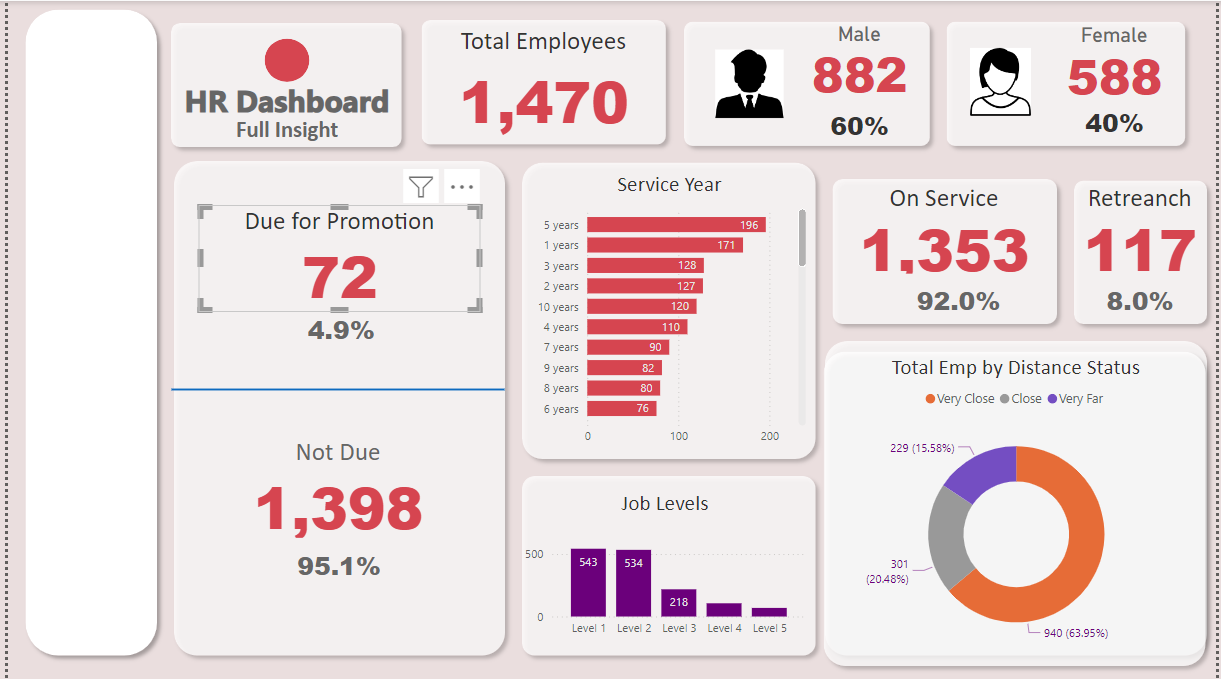

What the dashboard file says about the page in this screenshot:
{"tool":"powerbi","page":{"name":"Page 1","canvas":[1280,720],"ordinal":0},"visuals":[{"type":"shape","box":[9.5,0,157.5,703.1],"z":0},{"type":"shape","box":[163.8,14.3,262.5,149.5],"z":1000},{"type":"shape","box":[430,10.6,277.1,149.9],"z":2000},{"type":"shape","box":[707.1,12.1,278.6,149.9],"z":3000},{"type":"shape","box":[985.7,12.1,271,149.9],"z":4000},{"type":"shape","box":[167,160.7,369,542.4],"z":5000},{"type":"shape","box":[536,162.2,329.3,332.4],"z":6000},{"type":"shape","box":[536,494.7,329.3,208.4],"z":7000},{"type":"shape","box":[865.3,179.7,256.1,171.8],"z":8000},{"type":"shape","box":[1121.4,181.3,159.1,170.2],"z":9000},{"type":"shape","box":[857.3,351.5,423.1,351.5],"z":10000},{"type":"textbox","box":[173.4,77.9,245,60.4],"z":11000},{"type":"textbox","box":[173.4,116.1,245,63.6],"z":12000},{"type":"shape","box":[272,39.8,47.7,46.1],"z":13000},{"type":"card","title":"Total Employees","fields":{"Values":["All Measures.Total Emp"]},"box":[440.6,25.4,254.5,122.5],"z":14000},{"type":"card","title":"Male","fields":{"Values":["All Measures.Male"]},"box":[831.9,22.3,141.6,81.1],"z":15000},{"type":"card","title":"Male","fields":{"Values":["All Measures.% male"]},"box":[841.4,108.2,122.5,47.7],"z":16000},{"type":"card","title":"Female","fields":{"Values":["All Measures.Female"]},"box":[1102.3,23.9,141.6,81.1],"z":17000},{"type":"card","title":"Male","fields":{"Values":["All Measures.% female"]},"box":[1111.8,105,122.5,47.7],"z":18000},{"type":"image","box":[741.2,46.1,90.7,82.7],"z":19000},{"type":"image","box":[1014.8,39.8,74.8,92.3],"z":20000},{"type":"card","fields":{"Values":["All Measures.% Due for Promotion"]},"box":[243.4,321.3,219.5,54.1],"z":21000},{"type":"card","title":"Due for Promotion","fields":{"Values":["All Measures.Due for Promotion"]},"box":[202,216.3,299,112.9],"z":22000},{"type":"card","title":"Not Due","fields":{"Values":["All Measures.Not Due"]},"box":[200.4,461.3,299,112.9],"z":23000},{"type":"card","fields":{"Values":["All Measures.% Not Due"]},"box":[238.6,574.2,224.3,49.3],"z":24000},{"type":"shape","box":[173.4,405.6,353.1,12.7],"z":25000},{"type":"barChart","title":"Service Year","fields":{"Category":["HR Analytics Data.Service Year"],"Y":["All Measures.Total Emp"]},"box":[551.9,179.7,299,299],"z":26000},{"type":"columnChart","title":" Job Levels","fields":{"Category":["HR Analytics Data.Job Levels"],"Y":["All Measures.Total Emp"]},"box":[542.4,518.5,308.6,163.8],"z":27000},{"type":"card","title":"On Service","fields":{"Values":["All Measures.On Service"]},"box":[882.8,192.5,219.5,101.8],"z":28000},{"type":"card","title":"Male","fields":{"Values":["All Measures.% On Service"]},"box":[946.4,294.3,122.5,47.7],"z":29000},{"type":"shape","box":[856.2,362.1,423.1,351.5],"z":30000},{"type":"card","title":"Retreanch","fields":{"Values":["All Measures.Will be Retreanched"]},"box":[1130.9,192.5,138.4,101.8],"z":31000},{"type":"card","title":"Male","fields":{"Values":["All Measures.% Will be Retreanched"]},"box":[1138.9,294.3,122.5,47.7],"z":32000},{"type":"donutChart","fields":{"Category":["HR Analytics Data.Distance Status"],"Y":["All Measures.Total Emp"]},"box":[890.7,373.8,356.3,326.1],"z":33000}]}

Visuals, with their boxes in screenshot pixels (x1, y1, x2, y2), scaled from the page's 1280x720 canvas onto the 1221x679 screenshot:
shape: box=[9, 0, 159, 663]
shape: box=[156, 13, 407, 154]
shape: box=[410, 10, 675, 151]
shape: box=[675, 11, 940, 153]
shape: box=[940, 11, 1199, 153]
shape: box=[159, 152, 511, 663]
shape: box=[511, 153, 825, 466]
shape: box=[511, 467, 825, 663]
shape: box=[825, 169, 1070, 331]
shape: box=[1070, 171, 1220, 331]
shape: box=[818, 331, 1220, 663]
textbox: box=[165, 73, 399, 130]
textbox: box=[165, 109, 399, 169]
shape: box=[259, 38, 305, 81]
"Total Employees" card: box=[420, 24, 663, 139]
"Male" card: box=[794, 21, 929, 98]
"Male" card: box=[803, 102, 919, 147]
"Female" card: box=[1051, 23, 1187, 99]
"Male" card: box=[1061, 99, 1177, 144]
image: box=[707, 43, 794, 121]
image: box=[968, 38, 1039, 125]
card - All Measures.% Due for Promotion: box=[232, 303, 442, 354]
"Due for Promotion" card: box=[193, 204, 478, 310]
"Not Due" card: box=[191, 435, 476, 542]
card - All Measures.% Not Due: box=[228, 542, 442, 588]
shape: box=[165, 383, 502, 394]
"Service Year" barChart: box=[526, 169, 812, 451]
" Job Levels" columnChart: box=[517, 489, 812, 643]
"On Service" card: box=[842, 182, 1051, 278]
"Male" card: box=[903, 278, 1020, 323]
shape: box=[817, 341, 1220, 673]
"Retreanch" card: box=[1079, 182, 1211, 278]
"Male" card: box=[1086, 278, 1203, 323]
donutChart - HR Analytics Data.Distance Status x All Measures.Total Emp: box=[850, 353, 1190, 660]
